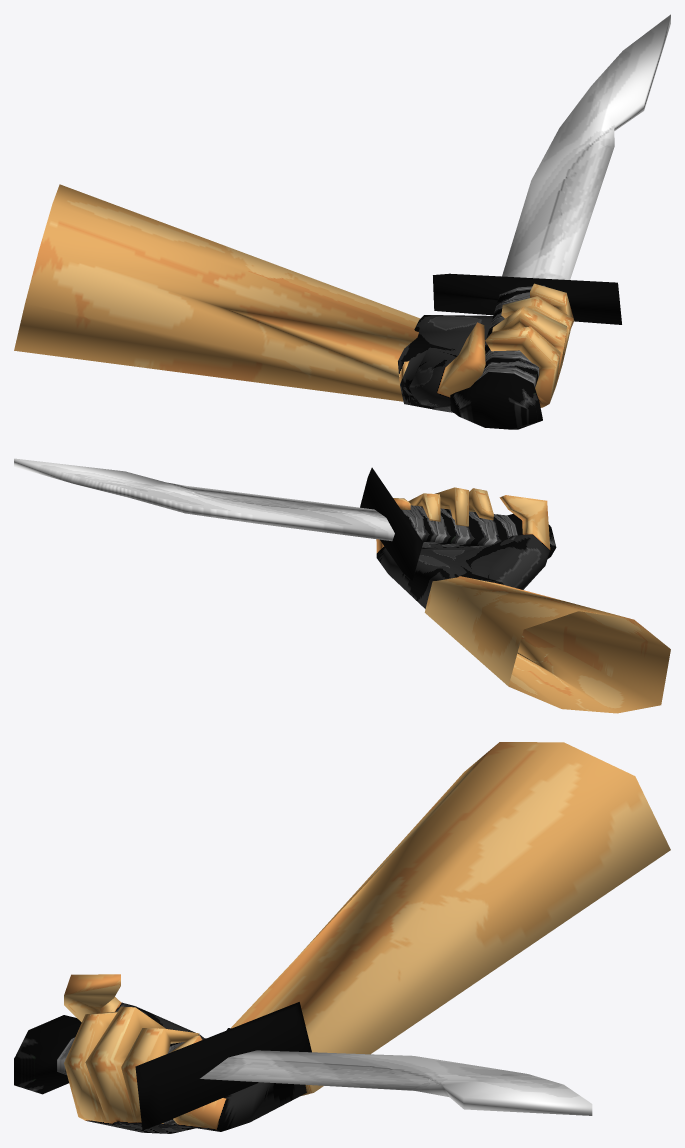
File: v_kbarout.fbx
3 views of the same model, one above another, from view 1: azimuth 30°, elevation 25°; view 2: azimuth 150°, elevation 25°; view 3: azimuth 270°, elevation 25° (orthographic). The views are drawn at different scales.
Parts seen in each view (by area): view 1: mesh0; view 2: mesh0; view 3: mesh0.
Part boxes in pixels (x1,y1,x2,y2): mesh0: [14, 14, 670, 429]; mesh0: [14, 458, 670, 713]; mesh0: [14, 742, 670, 1133].
Bounding box in the file's own units: 13.28 × 3.54 × 8.39.
